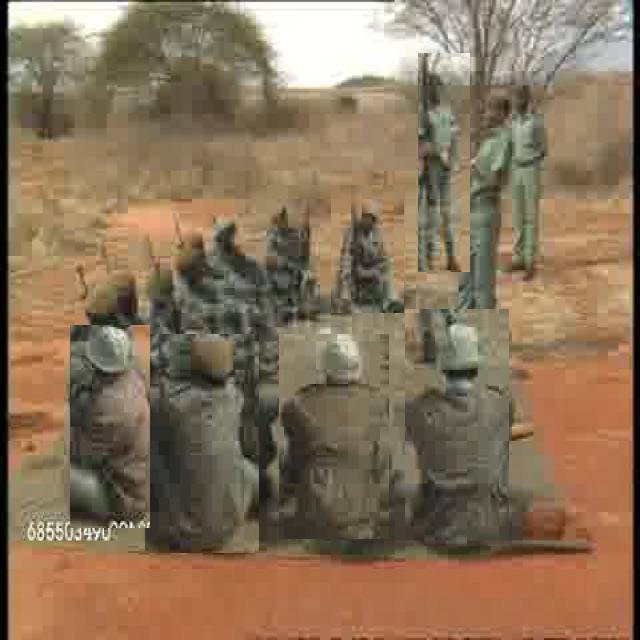poacher: (145, 334, 259, 553), (406, 309, 510, 546), (279, 334, 389, 539), (70, 325, 150, 528), (454, 89, 522, 315), (418, 53, 471, 272), (331, 185, 404, 313), (261, 201, 328, 297)
